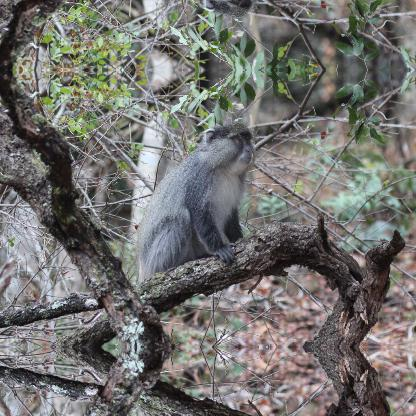Monkey: (133, 121, 255, 293)
